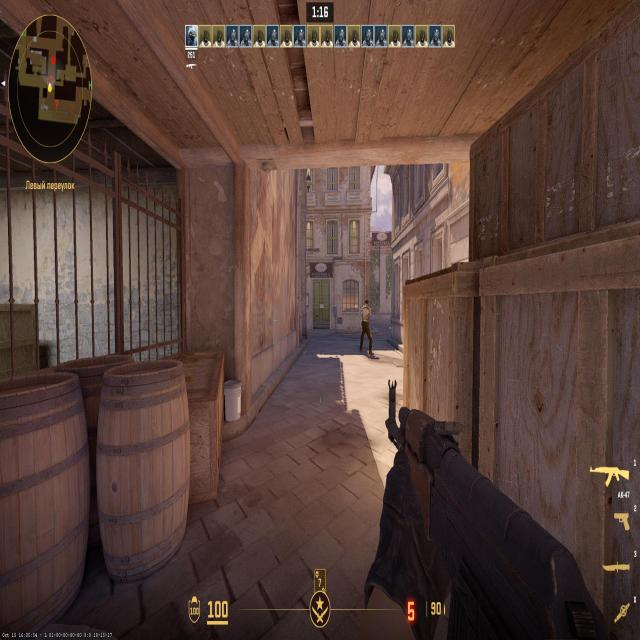T: (362, 298, 372, 353)
T_heat: (362, 299, 368, 311)
